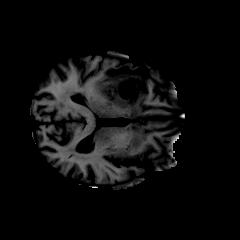glioma: (80, 64, 147, 106)
